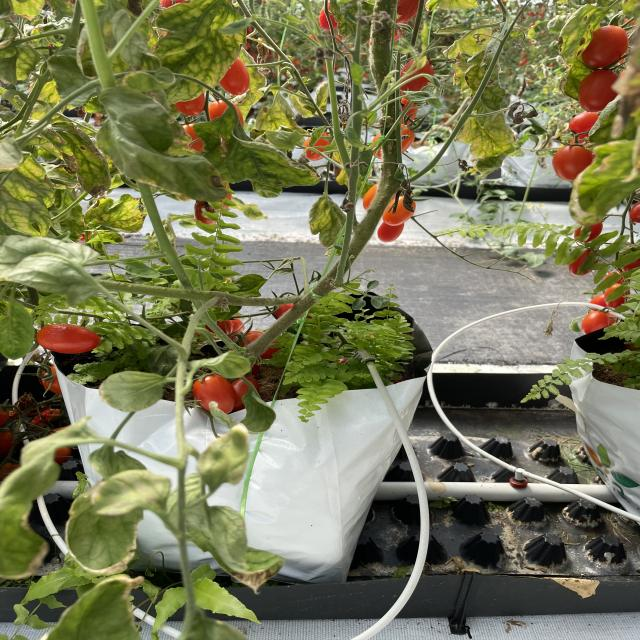Soilbag: (55, 364, 431, 577)
Tomato: (28, 325, 107, 353), (194, 376, 232, 415)
plant: (11, 34, 458, 388)
